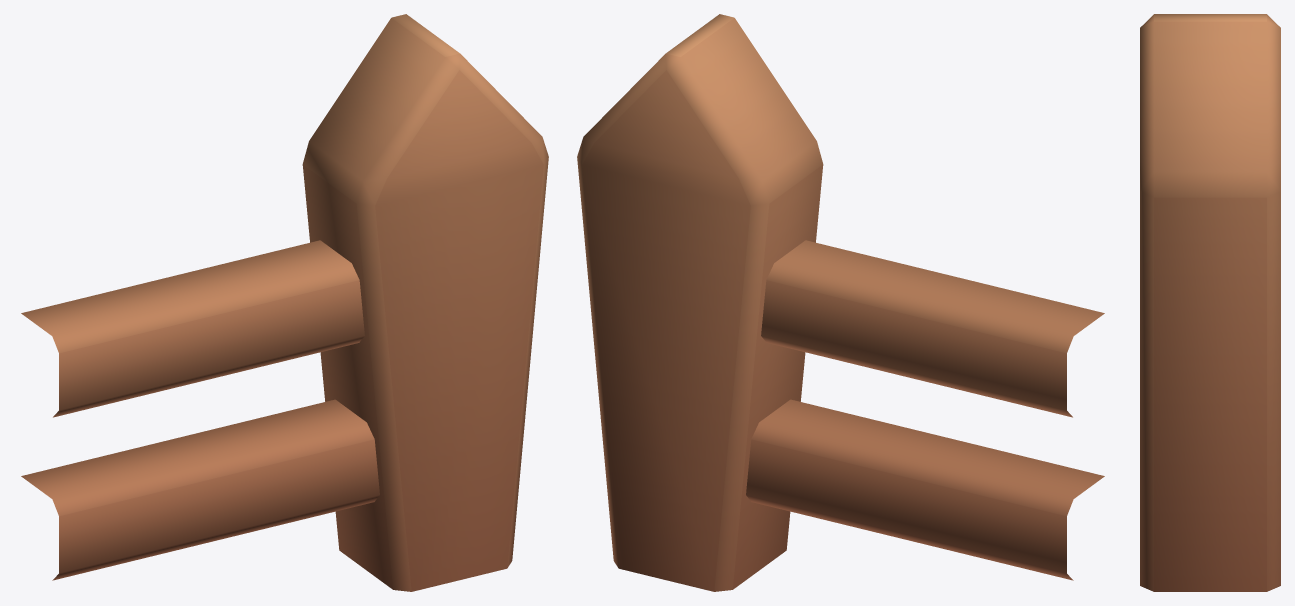
File: Fence Open.glb
3 views of the same model, side by side, from view 1: azimuth 30°, elevation 25°; view 2: azimuth 150°, elevation 25°; view 3: azimuth 270°, elevation 25° (orthographic). The views are drawn at different scales.
Visible parts, largest first — view 1: fence_open; view 2: fence_open; view 3: fence_open.
Part boxes in pixels (x1,y1,x2,y2): fence_open: (21,14,548,591); fence_open: (577,14,1104,591); fence_open: (1140,14,1280,591).
Bounding box in the file's own units: 1.25 × 1.28 × 0.3.
1 material, 1 textured.
